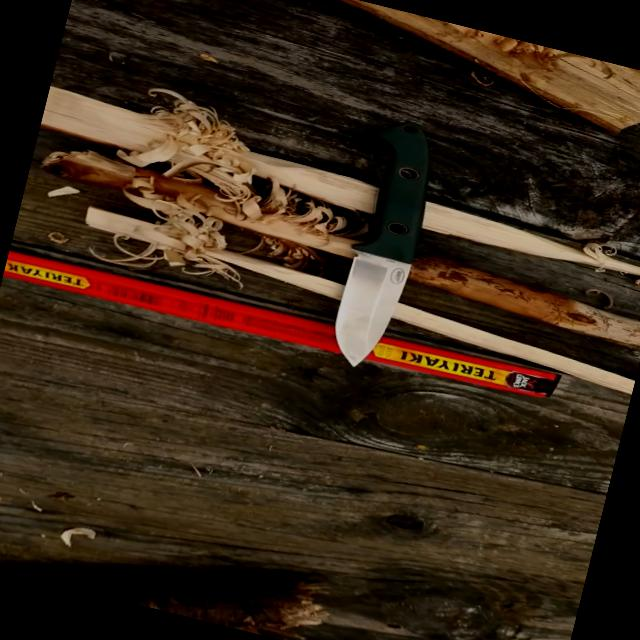knife: (307, 208, 428, 394)
